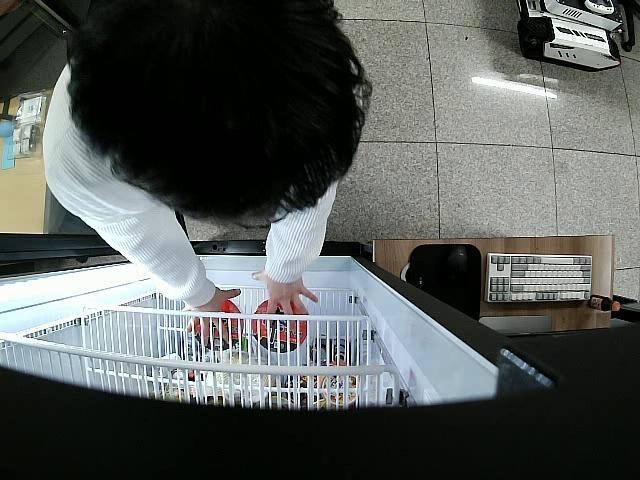01_ShinRamen_L: (252, 299, 308, 350), (195, 300, 242, 353)
